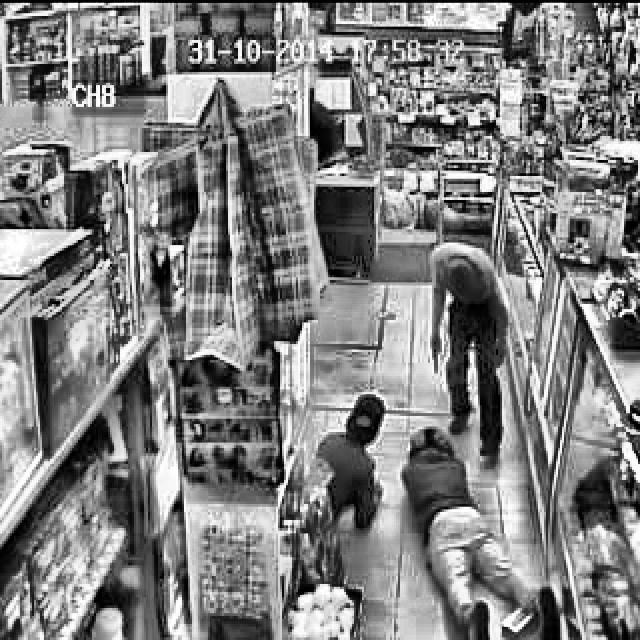robbery: (314, 391, 565, 640), (428, 239, 513, 470)
